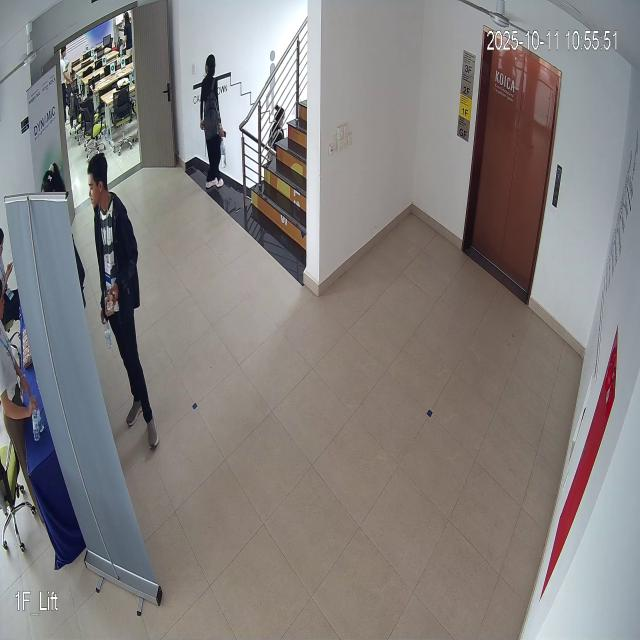face: (84, 141, 113, 216)
